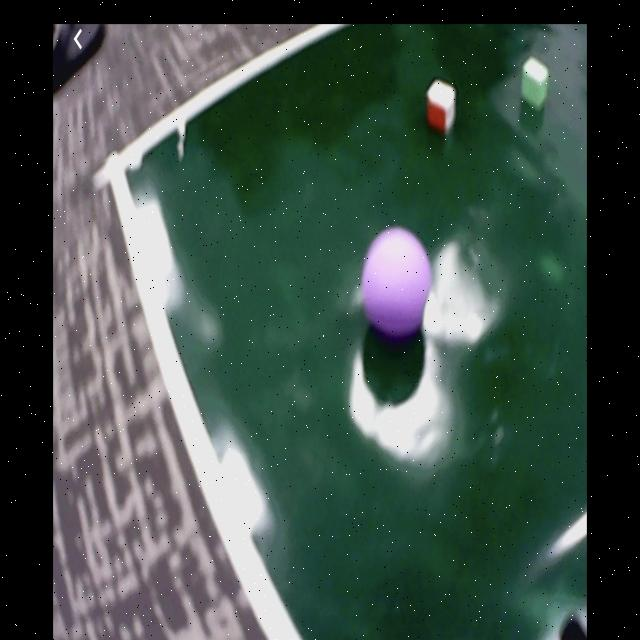ball: (366, 228, 430, 334)
